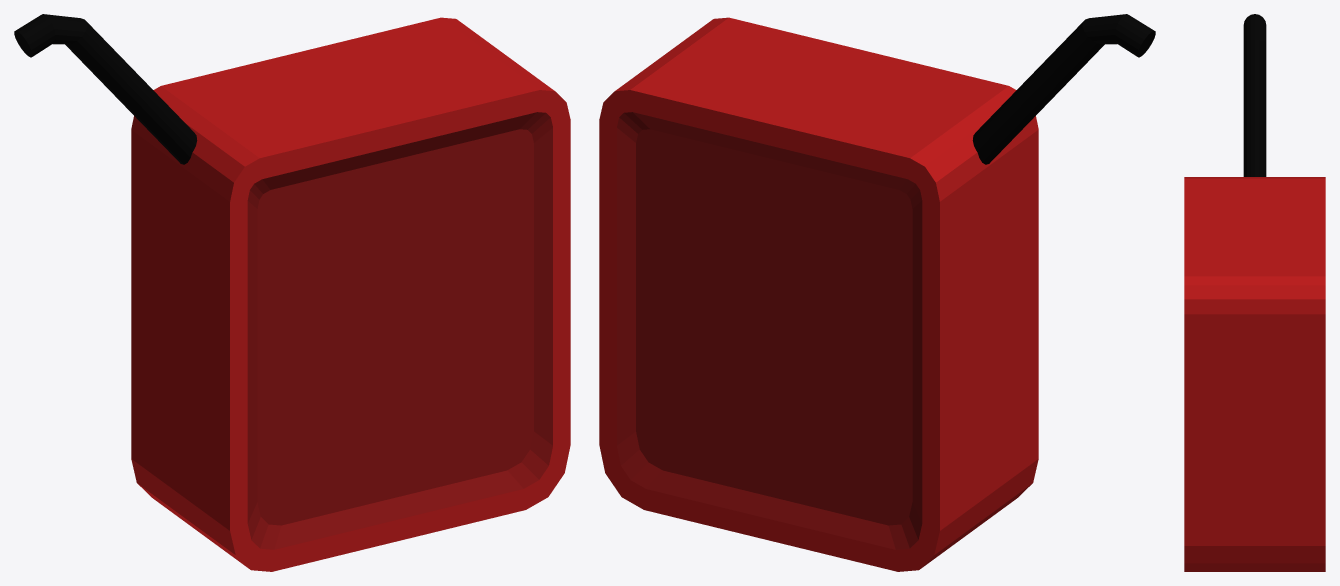
File: FuelEngine.fbx
The picture shows the model from 3 angles, left to right: view 1: azimuth 30°, elevation 25°; view 2: azimuth 150°, elevation 25°; view 3: azimuth 270°, elevation 25°; orthographic projection. The views are drawn at different scales.
Visible parts, largest first — view 1: FuelEngine; view 2: FuelEngine; view 3: FuelEngine.
Boxes of the visible parts, x1,y1,x2,y2 form: FuelEngine: (14,14,570,571); FuelEngine: (599,14,1155,571); FuelEngine: (1184,14,1325,571).
Size of the model in its own units: 253 by 271 by 86.02.
